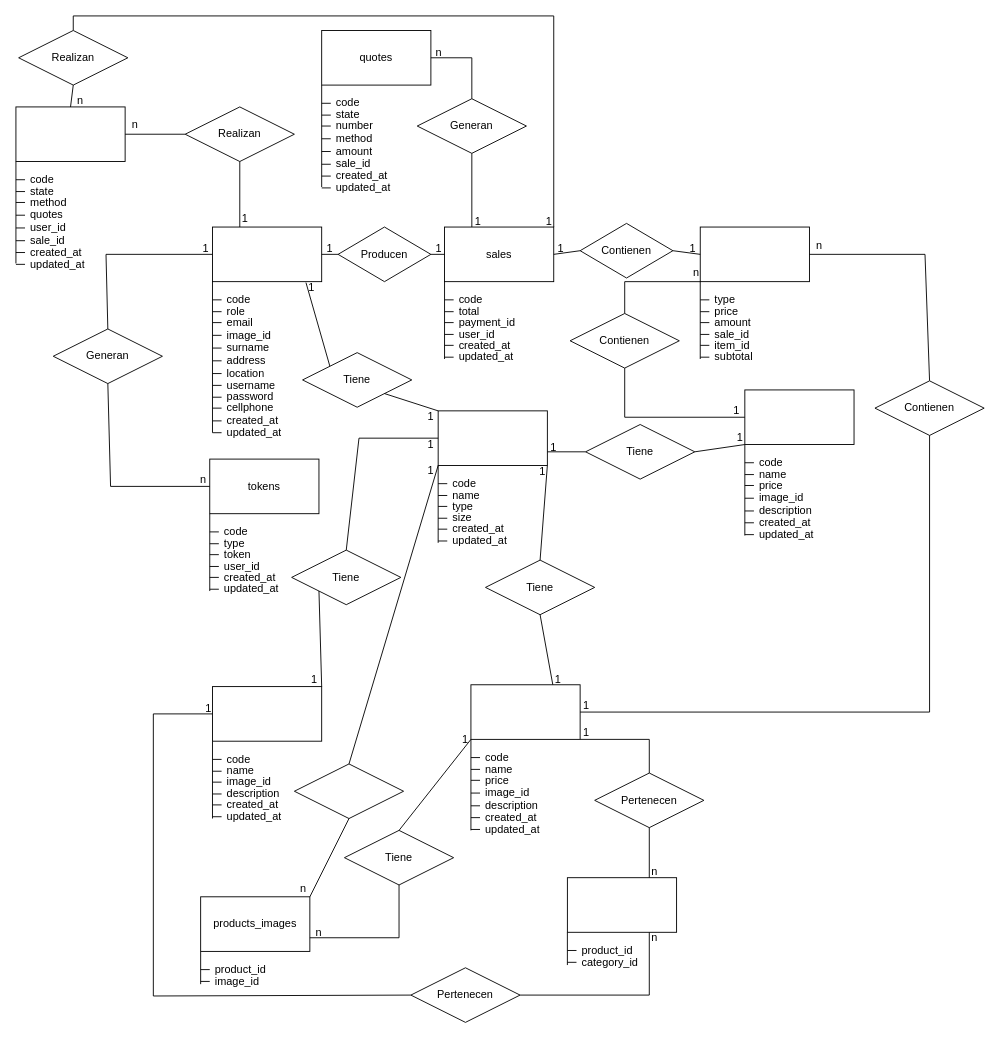
The diagram is 1000 pixels wide and 1038 high, and some of its shapes have lost their labels. Each missing label, with the centre of its shape:
categories: point (267, 713)
Guarda: point (348, 791)
images: point (492, 437)
payments: point (70, 134)
products: point (525, 711)
products_categories: point (621, 904)
sales_details: point (754, 254)
services: point (799, 417)
users: point (267, 254)
